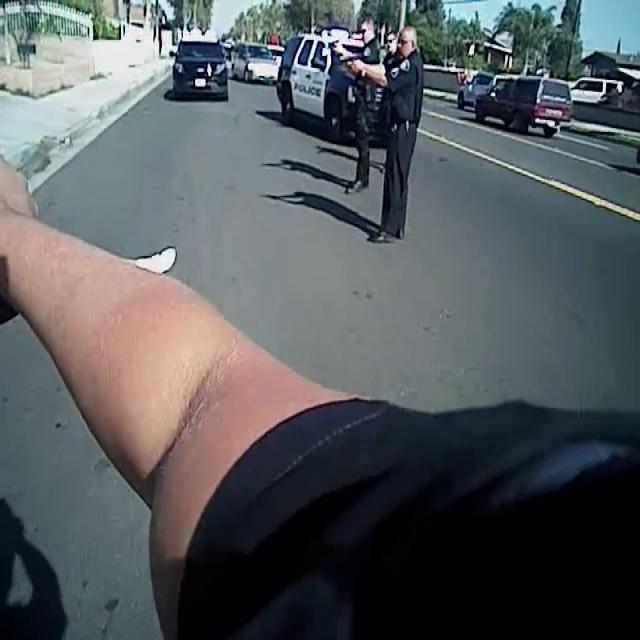gun: (318, 25, 347, 55), (333, 50, 365, 74)
